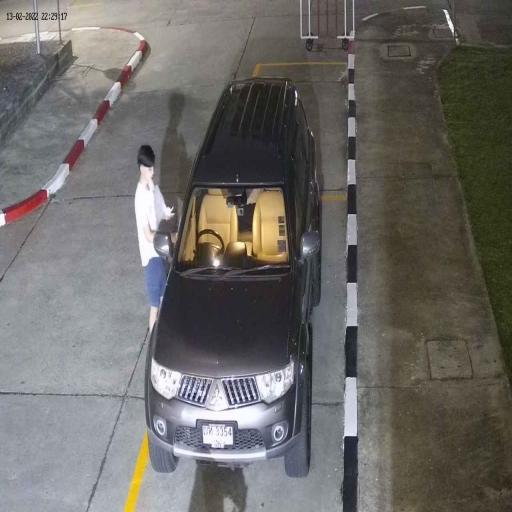car: (143, 77, 324, 480)
